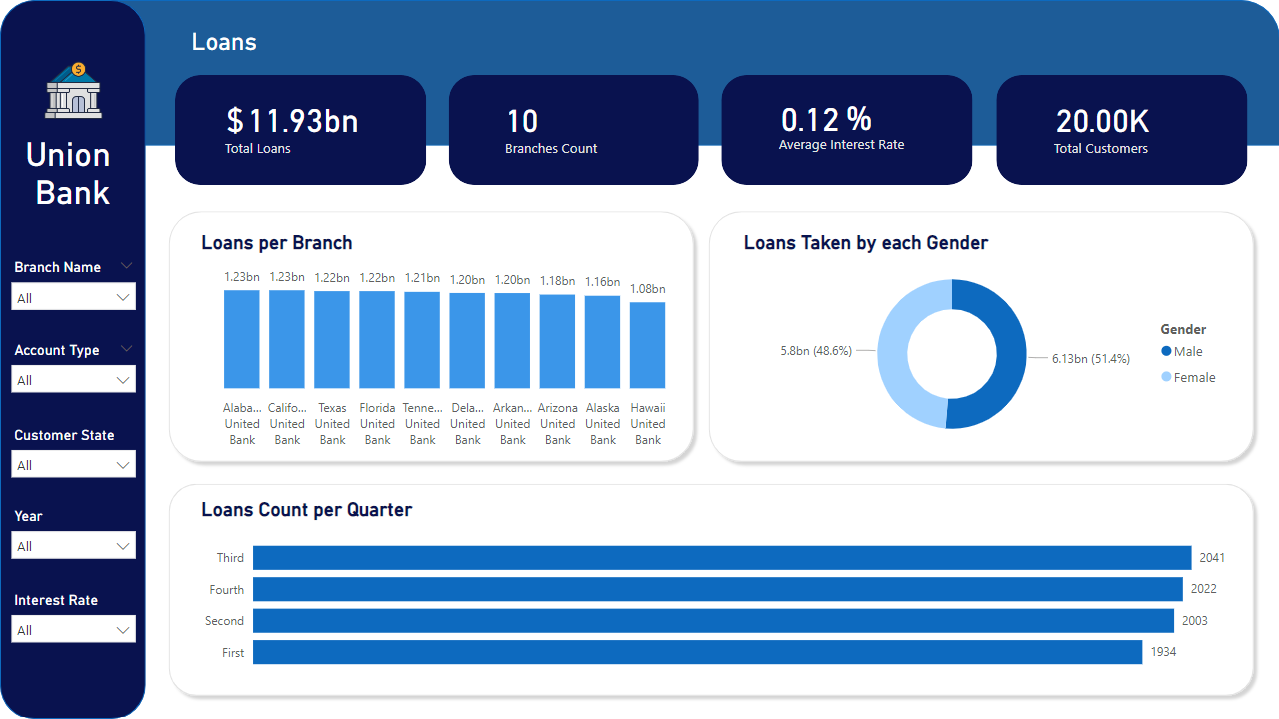

What the dashboard file says about the page in this screenshot:
{"tool":"powerbi","page":{"name":"Loan","canvas":[1280,720],"ordinal":0},"visuals":[{"type":"shape","box":[0,0,1280,145.7],"z":0},{"type":"shape","box":[0,0,145.7,720],"z":1000},{"type":"shape","box":[721.9,74.8,251.4,110],"z":2000},{"type":"shape","box":[996.3,74.7,251.4,110],"z":3000},{"type":"card","fields":{"Values":["Avg(Loan Fact.Intrest_Rate)"]},"box":[750.4,87.1,120,60],"z":4000},{"type":"textbox","box":[773.3,130.5,150,34.3],"z":5000},{"type":"textbox","box":[821.9,94.3,75.7,51.4],"z":6000},{"type":"shape","box":[449,74.8,250,110],"z":7000},{"type":"card","fields":{"Values":["CountNonNull(Branch Dim.Branch Location)"]},"box":[447.6,84.8,148.6,68.6],"z":8000},{"type":"textbox","box":[500.4,133.3,148.6,31.4],"z":9000},{"type":"shape","box":[174.9,74.7,251.4,110],"z":10000},{"type":"shape","box":[701.4,204.3,560,265.7],"z":11000},{"type":"shape","box":[161.4,204.3,540,265.7],"z":12000},{"type":"columnChart","title":"Loans per Branch","fields":{"Category":["Branch Dim.BranchName"],"Y":["Sum(Loan Fact.Total_Amount)"]},"box":[195.7,231.4,492.9,224.3],"z":13000},{"type":"shape","box":[161.4,475.7,1100,227.1],"z":14000},{"type":"donutChart","title":"Loans Taken by each Gender","fields":{"Category":["Customer Dim.Gender"],"Y":["Sum(Loan Fact.Total_Amount)"]},"box":[738.6,231.4,492.9,224.3],"z":15000},{"type":"barChart","title":"Loans Count per Quarter","fields":{"Category":["DimDate.QuarterName"],"Y":["CountNonNull(Loan Fact.PK_Loan SK)"]},"box":[195.7,498.6,1035.7,184.3],"z":16000},{"type":"card","fields":{"Values":["Count(Customer Dim.Customer_ID BK)"]},"box":[1027.7,84.7,150,67.1],"z":17000},{"type":"textbox","box":[1049.2,133.3,165.7,30],"z":18000},{"type":"card","title":"Total Loans","fields":{"Values":["Sum(Loan Fact.Total_Amount)"]},"box":[207.7,82.9,191.4,71.4],"z":20000},{"type":"textbox","box":[220.6,133.3,162.9,28.6],"z":21000},{"type":"textbox","box":[197.9,96.8,75,51.2],"z":22000},{"type":"slicer","fields":{"Values":["Branch Dim.BranchName"]},"box":[1.4,253.9,144.3,84.3],"z":23000},{"type":"slicer","fields":{"Values":["Account Dim.Account Type"]},"box":[1.4,336.7,144.3,84.3],"z":24000},{"type":"slicer","fields":{"Values":["Customer Dim.State"]},"box":[1.4,421,144.3,84.3],"z":25000},{"type":"slicer","fields":{"Values":["DimDate.Year"]},"box":[1.4,502.4,144.3,84.3],"z":26000},{"type":"slicer","fields":{"Values":["Loan Fact.Intrest_Rate"]},"box":[1.4,586.7,144.3,84.3],"z":27000},{"type":"image","box":[35.7,50,74.3,80],"z":28000},{"type":"textbox","box":[12.9,130,120,101.4],"z":29000},{"type":"textbox","box":[185.7,22.9,307.1,52.9],"z":29001}]}

Visuals, with their boxes in screenshot pixels (x1, y1, x2, y2), scaled from the page's 1280x720 canvas onto the 1279x719 screenshot:
shape: region(0, 0, 1278, 145)
shape: region(0, 0, 146, 718)
shape: region(721, 75, 973, 185)
shape: region(996, 75, 1247, 184)
card - Avg(Loan Fact.Intrest_Rate): region(750, 87, 870, 147)
textbox: region(773, 130, 923, 165)
textbox: region(821, 94, 897, 145)
shape: region(449, 75, 698, 185)
card - CountNonNull(Branch Dim.Branch Location): region(447, 85, 596, 153)
textbox: region(500, 133, 648, 164)
shape: region(175, 75, 426, 184)
shape: region(701, 204, 1260, 469)
shape: region(161, 204, 701, 469)
"Loans per Branch" columnChart: region(196, 231, 688, 455)
shape: region(161, 475, 1260, 702)
"Loans Taken by each Gender" donutChart: region(738, 231, 1231, 455)
"Loans Count per Quarter" barChart: region(196, 498, 1230, 682)
card - Count(Customer Dim.Customer_ID BK): region(1027, 85, 1177, 152)
textbox: region(1048, 133, 1214, 163)
"Total Loans" card: region(208, 83, 399, 154)
textbox: region(220, 133, 383, 162)
textbox: region(198, 97, 273, 148)
slicer - Branch Dim.BranchName: region(1, 254, 146, 338)
slicer - Account Dim.Account Type: region(1, 336, 146, 420)
slicer - Customer Dim.State: region(1, 420, 146, 505)
slicer - DimDate.Year: region(1, 502, 146, 586)
slicer - Loan Fact.Intrest_Rate: region(1, 586, 146, 670)
image: region(36, 50, 110, 130)
textbox: region(13, 130, 133, 231)
textbox: region(186, 23, 492, 76)
